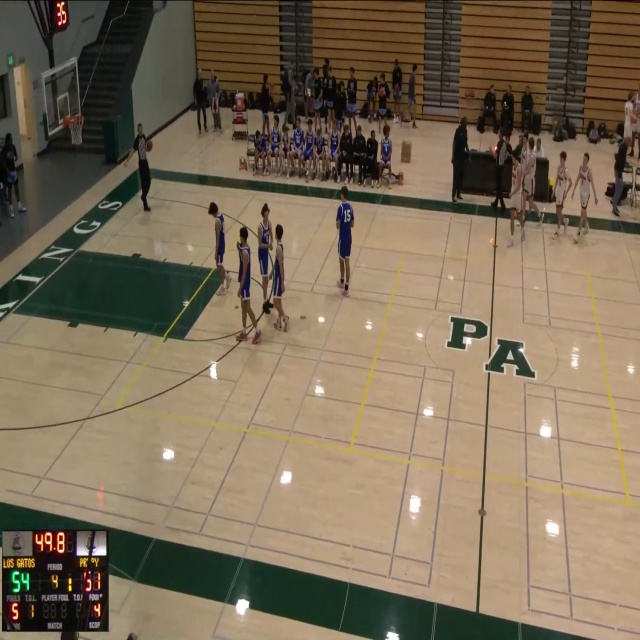Basketball: (145, 140, 152, 152)
